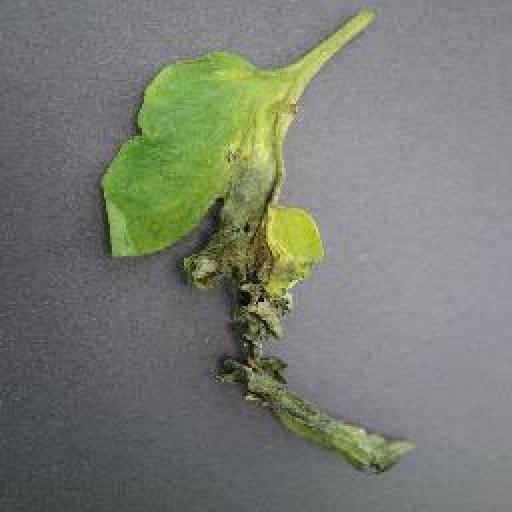disease_tomato: (100, 51, 417, 481)
